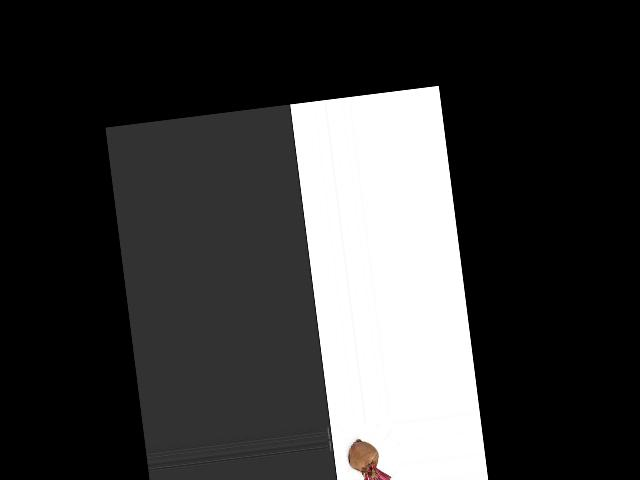beet: (345, 435, 393, 480)
